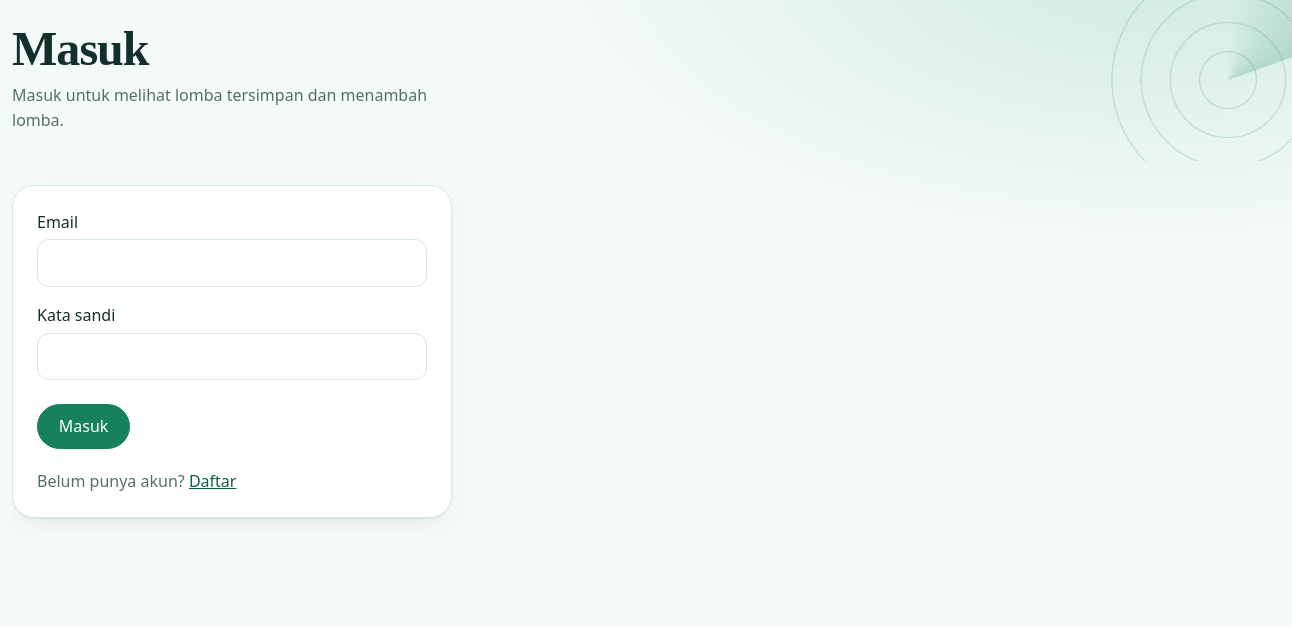
halaman Masuk › login gagal: pesan error tampil dan tetap di halaman
This screenshot has width=1292, height=626.
Type "andi@uji.id" into the field labelled "Email" at [232, 263], box [37,239,427,287]
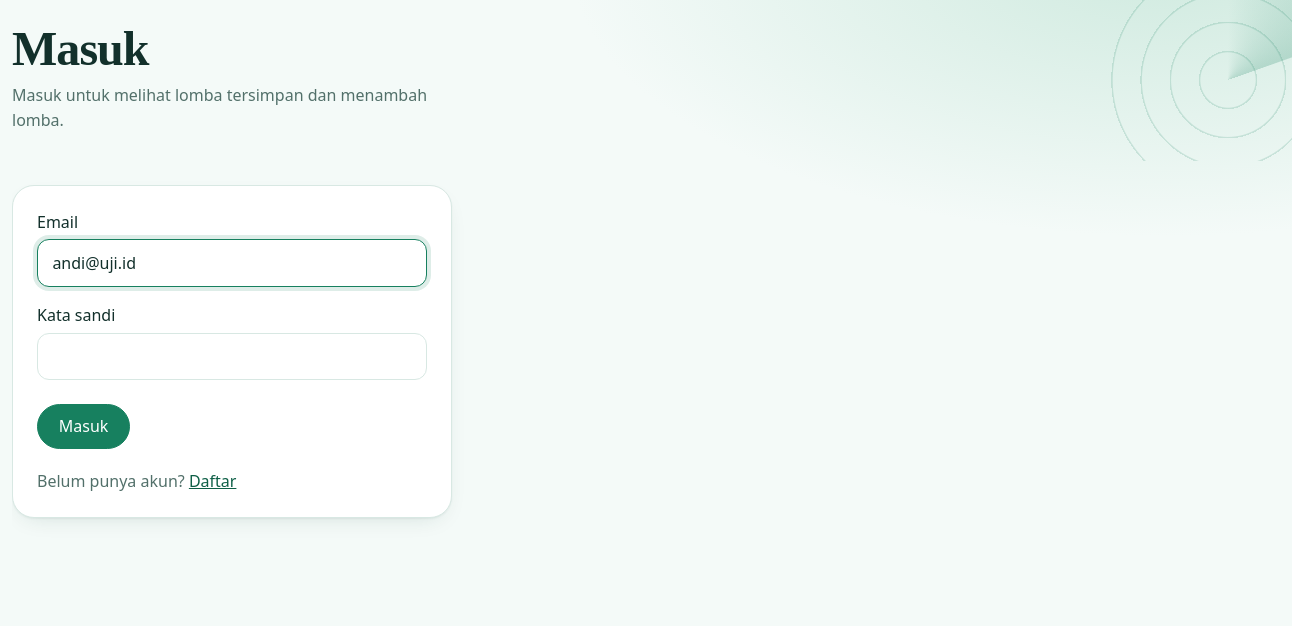
Type "salah" into the password field labelled "Kata sandi" at [232, 356], box [37,332,427,380]
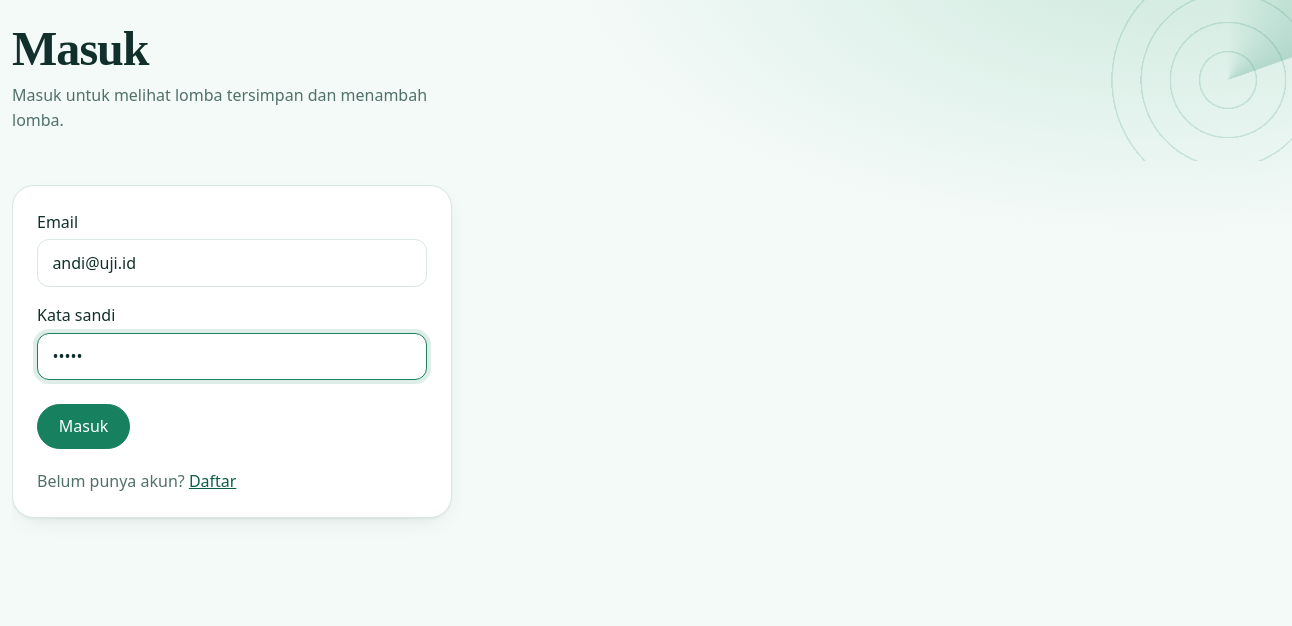
Click the button "Masuk" at [84, 426], box [37,404,130,448]
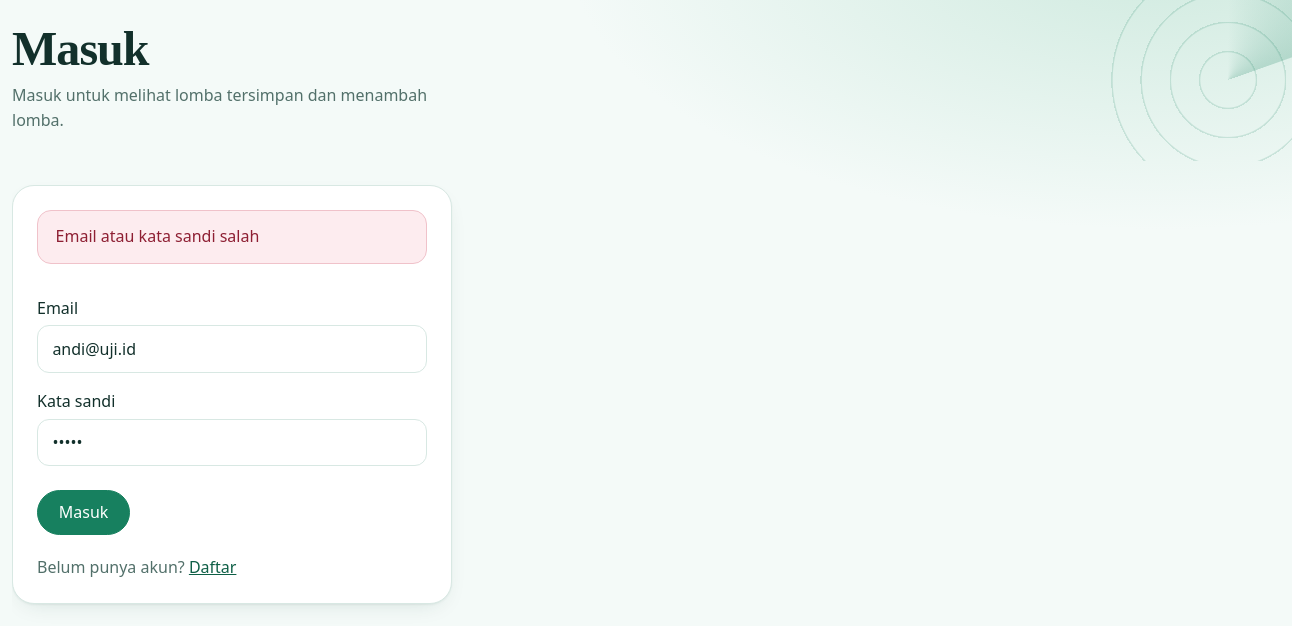
Expected: the button "Masuk" is enabled, [37,490,130,534]
Expected: the message reads "Email atau kata sandi salah", [56,225,259,247]
